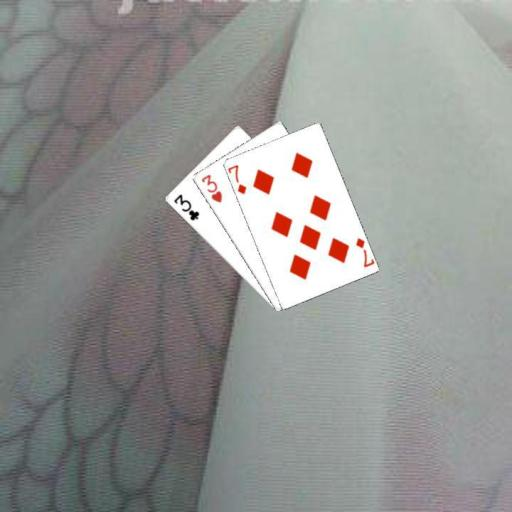3C: (170, 190, 200, 222)
3H: (198, 171, 223, 204)
7D: (226, 162, 248, 196), (352, 235, 374, 269)
